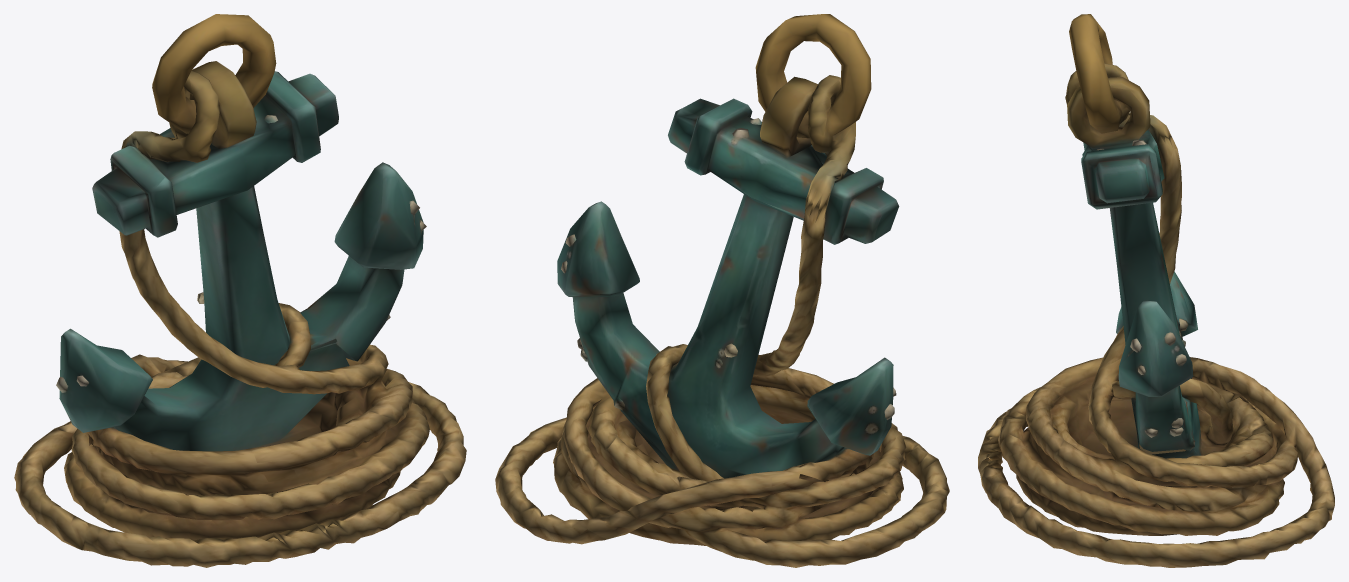
File: rope_anchor.glb
The picture shows the model from 3 angles, left to right: view 1: azimuth 30°, elevation 25°; view 2: azimuth 150°, elevation 25°; view 3: azimuth 270°, elevation 25°; orthographic projection. The views are drawn at different scales.
Visible parts, largest first — view 1: rope_anchor; view 2: rope_anchor; view 3: rope_anchor.
Boxes of the visible parts, box(x1,y1,x2,y2) form: rope_anchor: box(14, 14, 466, 567); rope_anchor: box(495, 14, 949, 567); rope_anchor: box(978, 14, 1334, 567).
Size of the model in its own units: 7.74 by 9.01 by 6.61.
Materials: 1 (1 with a texture image).
